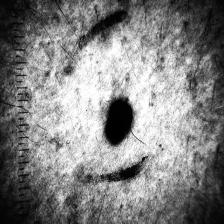Benign Marking or Mole: (104, 100, 137, 140)
